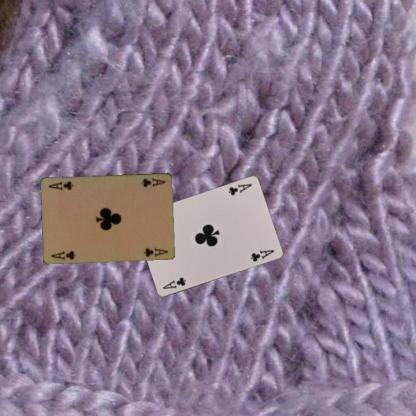Ac: (225, 181, 253, 197), (160, 275, 187, 291), (48, 248, 77, 261), (139, 175, 167, 188)
